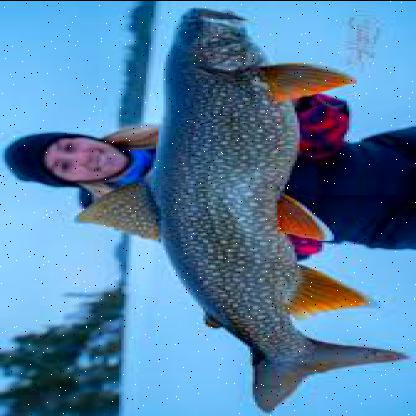fish: (78, 12, 402, 406)
